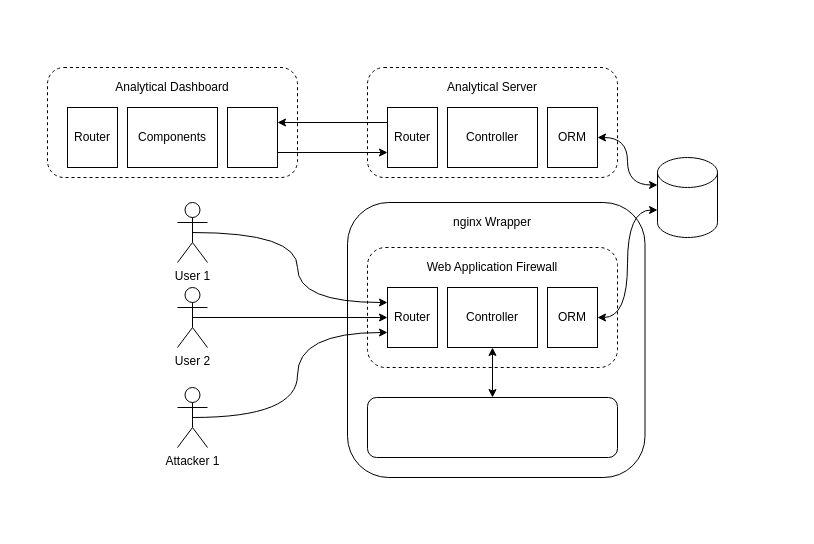
This 814x544 diagram has some shape labels left out. The shapes that lost their labels are listed below. From the top down, each one's centre as x and y in pixels, then its label:
point 252,137: Service
point 687,197: MongoDB
point 492,427: Destination Server
